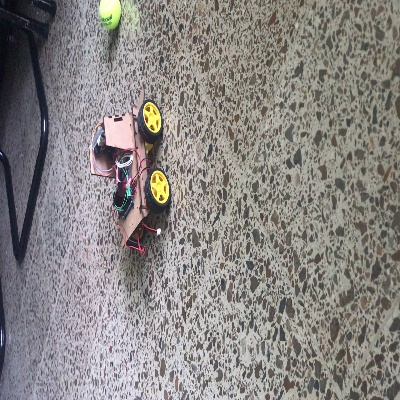Ball: (98, 0, 121, 27)
Robot: (90, 88, 170, 247)
